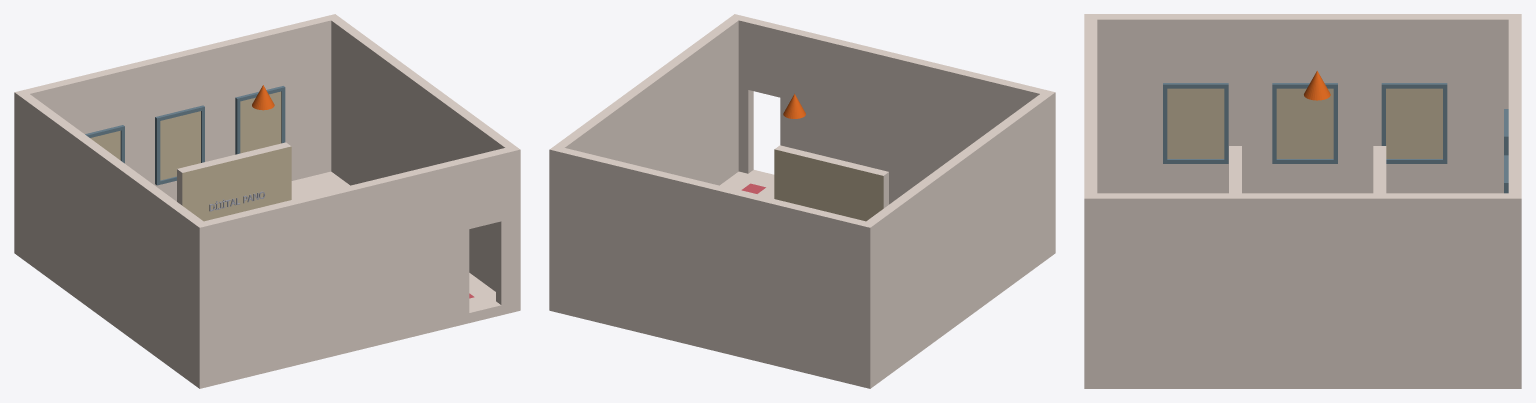
Rendered from sergi_salonu_template.glb.
The picture shows the model from 3 angles, left to right: view 1: azimuth 30°, elevation 25°; view 2: azimuth 150°, elevation 25°; view 3: azimuth 270°, elevation 25°; orthographic projection. The views are drawn at different scales.
Visible parts, largest first — view 1: Sergi_template; view 2: Sergi_template; view 3: Sergi_template, Aydınlatma.
Part boxes in pixels (box(x1,y1,x2,y2)): Sergi_template: box(14, 14, 520, 388); Sergi_template: box(549, 14, 1055, 388); Sergi_template: box(1084, 14, 1521, 388); Aydınlatma: box(1304, 71, 1330, 100).
Bounding box in the file's own units: 10 × 5.73 × 10.
